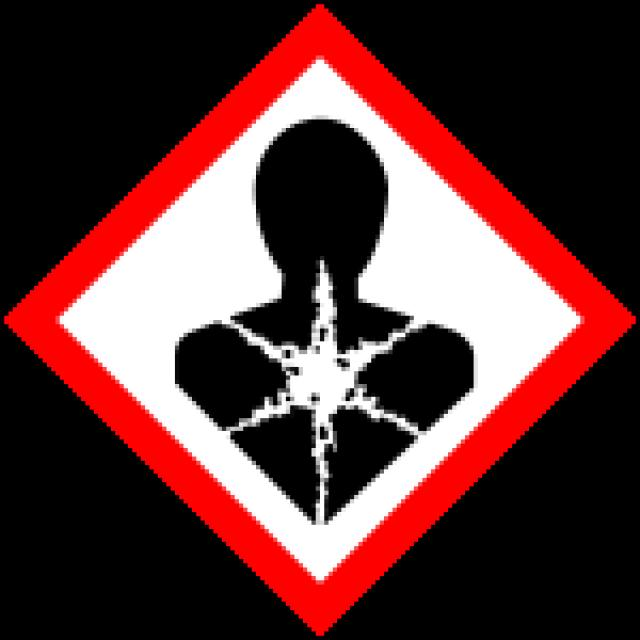GHS08- Serious Health hazard: (4, 4, 640, 640)
